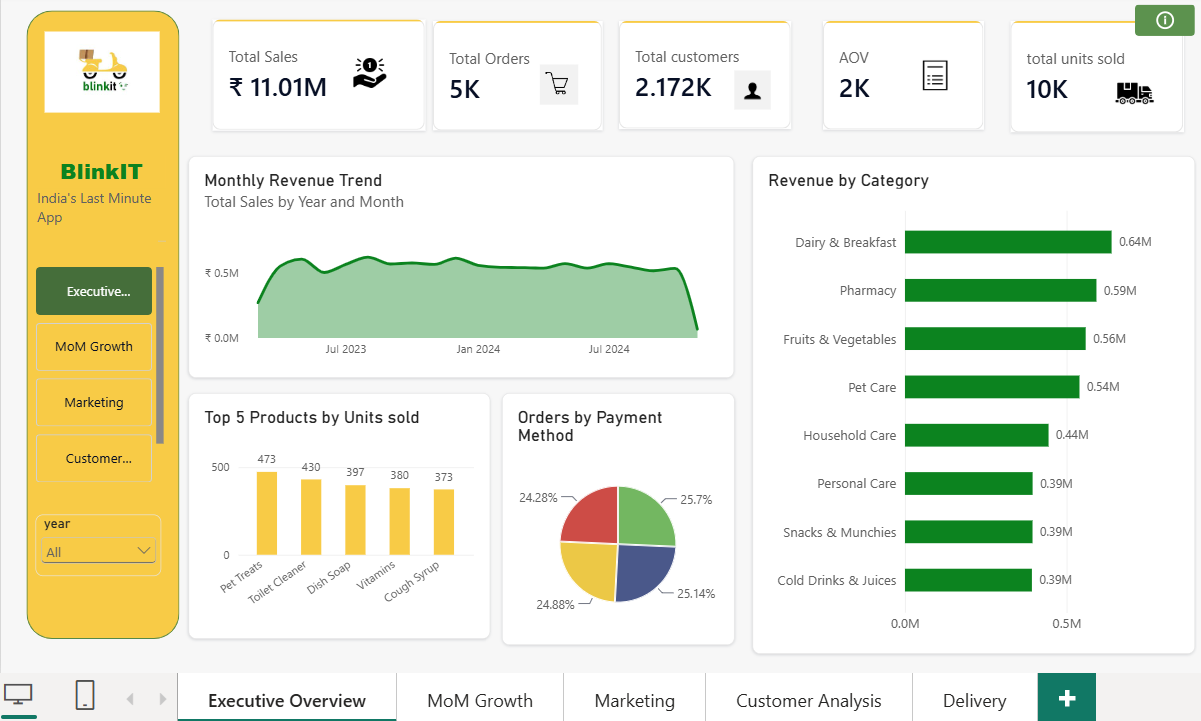

The page's visual inventory and layout, read from the dashboard file:
{"tool":"powerbi","page":{"name":"Executive Overview","canvas":[1280,720],"ordinal":0},"visuals":[{"type":"cardVisual","fields":{"Data":["blinkit_orders.Total Orders count"]},"box":[458,29,180,116],"z":0,"group":"g1"},{"type":"clusteredBarChart","title":"Revenue by Category","fields":{"Category":["blinkit_order_items.Products.category"],"Y":["Sum(blinkit_order_items.Total Revenue)"]},"box":[796.9,171.8,469.2,528.1],"z":0},{"type":"cardVisual","fields":{"Data":["blinkit_customers.Total customers"]},"box":[655.3,29.1,182.9,114.5],"z":1000,"group":"g1"},{"type":"columnChart","title":"Top 5 Products by Units sold","fields":{"Category":["blinkit_order_items.Products.product_name"],"Y":["blinkit_order_items.total units sold"]},"box":[198.8,423.1,319.7,260.9],"z":1000},{"type":"cardVisual","fields":{"Data":["blinkit_order_items.total units sold"]},"box":[1070.4,29,184,118.3],"z":2000,"group":"g1"},{"type":"lineChart","title":"Monthly Revenue Trend","fields":{"Category":["Dimdate.Date.Variation.Date Hierarchy.Year","Dimdate.Date.Variation.Date Hierarchy.Month"],"Y":["blinkit_orders.Total Sales"]},"box":[198.8,171.8,579,235.4],"z":2000},{"type":"cardVisual","fields":{"Data":["blinkit_orders.AOV"]},"box":[871.6,29,170.5,115.6],"z":3000,"group":"g1"},{"type":"pieChart","title":"Orders by Payment Method","fields":{"Category":["blinkit_orders.payment_method"],"Y":["blinkit_orders.Total Orders"]},"box":[531.3,423.1,246.5,267.2],"z":3000},{"type":"group","id":"g1","title":"Group 1","box":[224.3,27,1030.1,120.3],"z":4000},{"type":"cardVisual","fields":{"Data":["blinkit_orders.Total Sales"]},"box":[224.3,27,225.9,117.7],"z":4000,"group":"g1"},{"type":"shape","box":[27,17.3,162.2,666.5],"z":5000},{"type":"image","box":[767.8,81,57.3,41.4],"z":5000,"group":"g1"},{"type":"image","box":[1175,71.5,54.1,65.2],"z":6000,"group":"g1"},{"type":"pageNavigator","box":[36.6,288.9,136.8,233.8],"z":6000},{"type":"textbox","title":"    BlinkIT","box":[38.5,171.4,136.8,90.7],"z":7000},{"type":"slicer","fields":{"Values":["Dimdate.year"]},"box":[36.6,552.7,133.6,65.2],"z":8000},{"type":"image","box":[30.2,39.8,154.3,85.9],"z":9000},{"type":"image","box":[372.2,62,38.2,42.9],"z":10000},{"type":"image","box":[548.8,74.8,85.9,42.9],"z":11000},{"type":"image","box":[957.5,54.1,63.6,63.6],"z":12000},{"type":"actionButton","box":[1202.5,11.1,63.6,33.4],"z":13000}]}

Visuals, with their boxes on the page's 1280x720 design canvas (x1, y1, x2, y2). These are canvas units, not pixel positions in the 1201x721 screenshot, which may show the page scaled, cropped or inside an application window:
cardVisual - blinkit_orders.Total Orders count: (458, 29, 638, 145)
"Revenue by Category" clusteredBarChart: (797, 172, 1266, 700)
cardVisual - blinkit_customers.Total customers: (655, 29, 838, 144)
"Top 5 Products by Units sold" columnChart: (199, 423, 518, 684)
cardVisual - blinkit_order_items.total units sold: (1070, 29, 1254, 147)
"Monthly Revenue Trend" lineChart: (199, 172, 778, 407)
cardVisual - blinkit_orders.AOV: (872, 29, 1042, 145)
"Orders by Payment Method" pieChart: (531, 423, 778, 690)
"Group 1" group: (224, 27, 1254, 147)
cardVisual - blinkit_orders.Total Sales: (224, 27, 450, 145)
shape: (27, 17, 189, 684)
image: (768, 81, 825, 122)
image: (1175, 72, 1229, 137)
pageNavigator: (37, 289, 173, 523)
"    BlinkIT" textbox: (38, 171, 175, 262)
slicer - Dimdate.year: (37, 553, 170, 618)
image: (30, 40, 184, 126)
image: (372, 62, 410, 105)
image: (549, 75, 635, 118)
image: (958, 54, 1021, 118)
actionButton: (1202, 11, 1266, 44)
